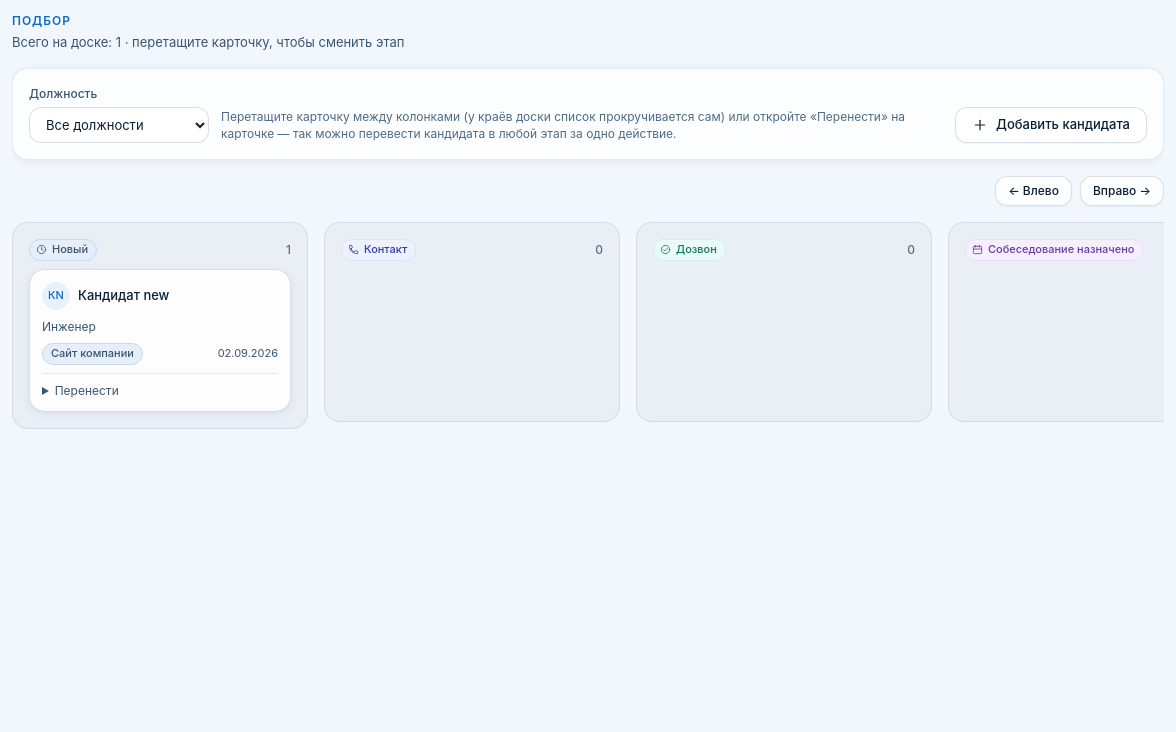
Scenario: scrolls the board without dragging and keeps the move control collapsed
The image size is (1176, 732).
Expected: the text "Кандидат new" is shown, [78,286,169,305]
Click the button with aria-label "Прокрутить воронку вправо" at {"x": 1122, "y": 191}, box [1080,176,1164,206]
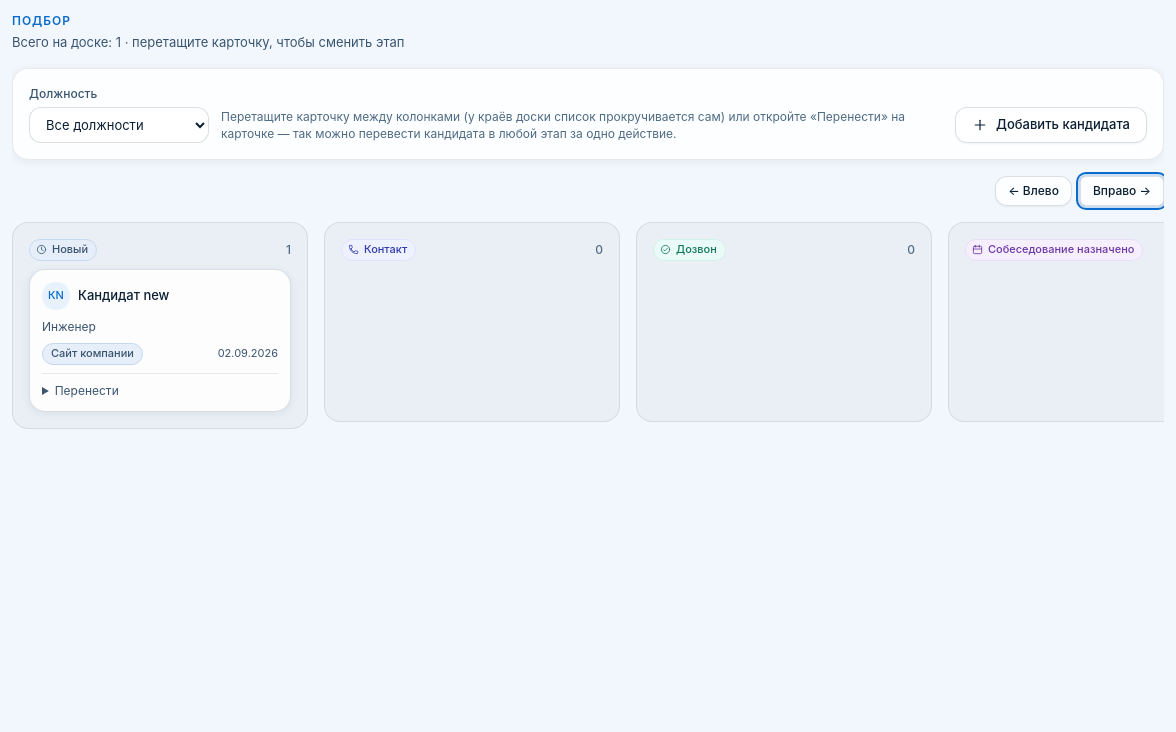
Click the button with aria-label "Прокрутить воронку влево" at {"x": 1034, "y": 191}, box [995,176,1072,206]
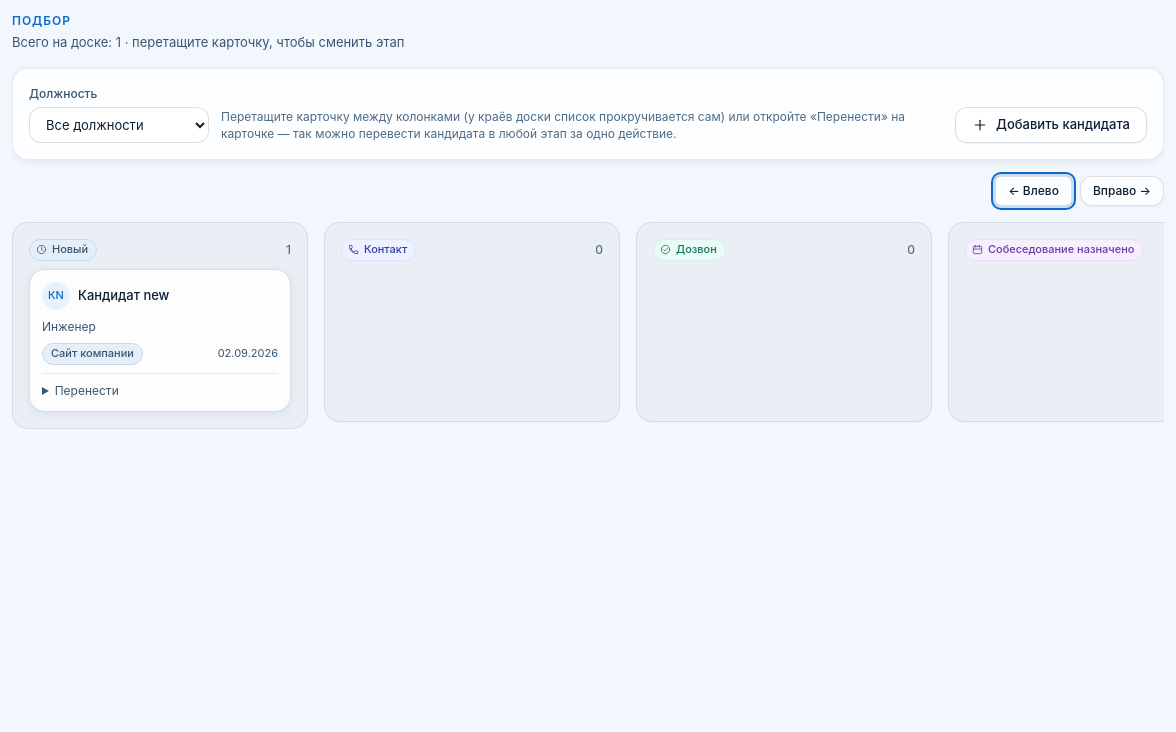
Click the heading "Перенести" at {"x": 87, "y": 390}, box [55,383,119,398]
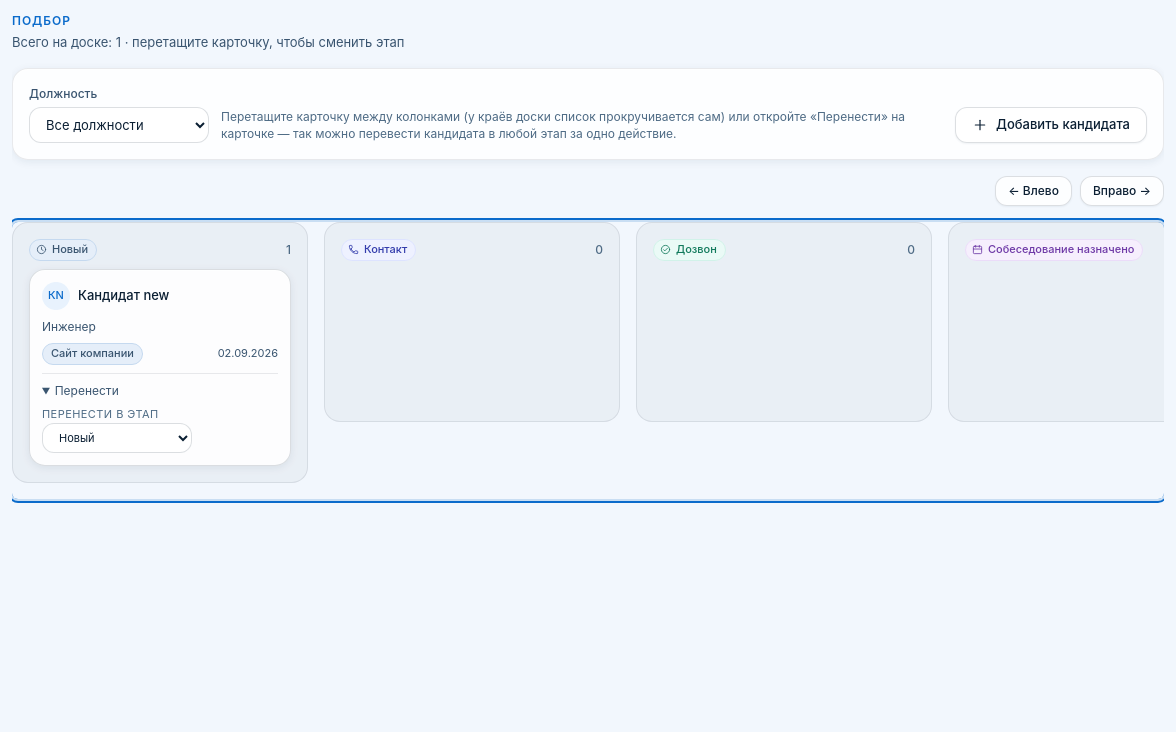
Now the dropdown named "Изменить этап: Кандидат new" is shown, box [42,423,192,453]
